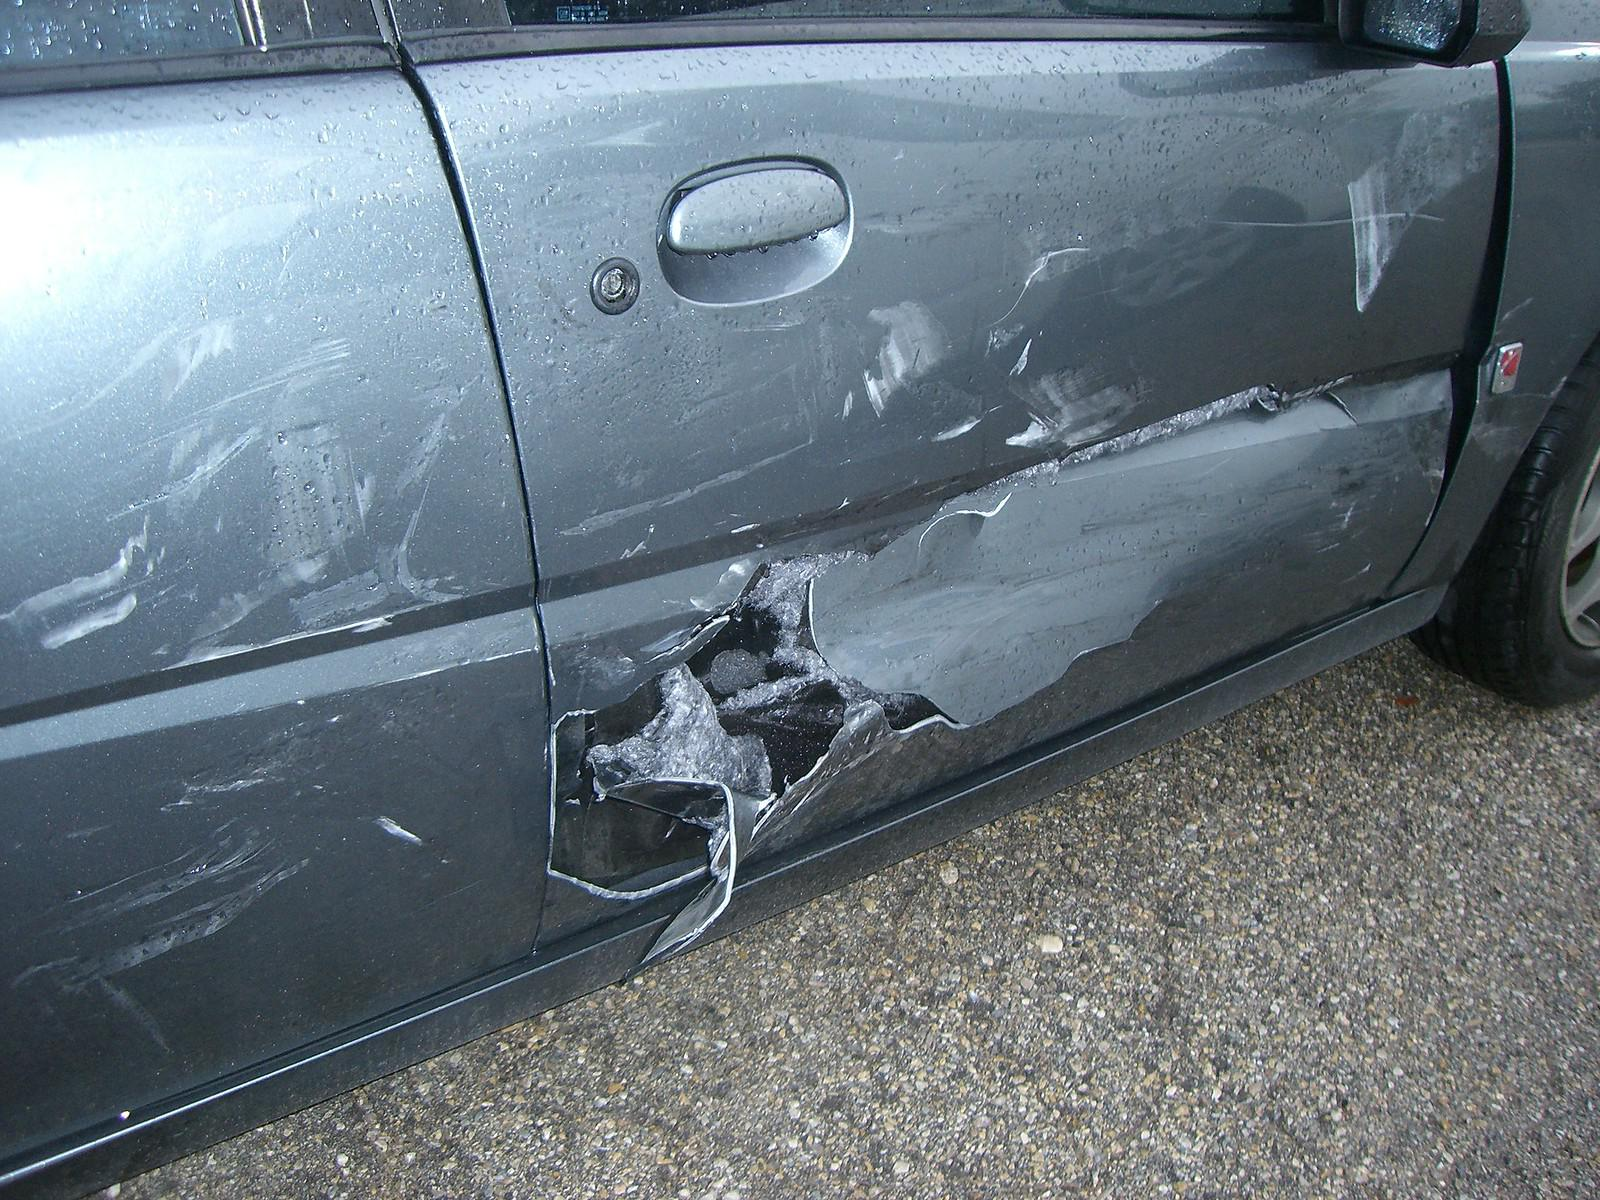doorouter-dent: (561, 43, 1353, 952), (0, 170, 490, 1024)
